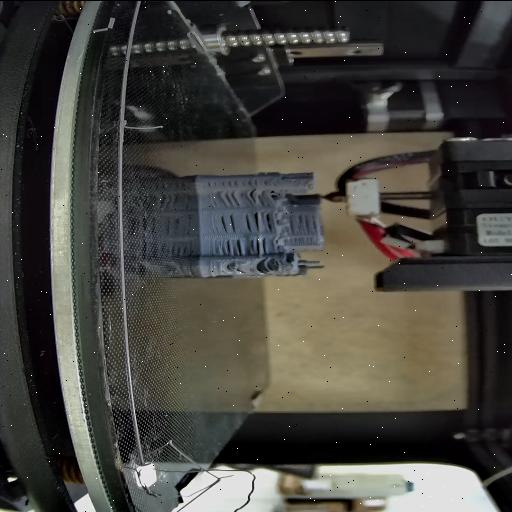cracks: (244, 211, 274, 233), (213, 237, 243, 257), (210, 213, 238, 234), (288, 214, 316, 234), (205, 178, 270, 186), (246, 186, 270, 206), (218, 190, 241, 208), (250, 236, 270, 254), (258, 264, 274, 275), (232, 266, 248, 274), (280, 176, 292, 182)
